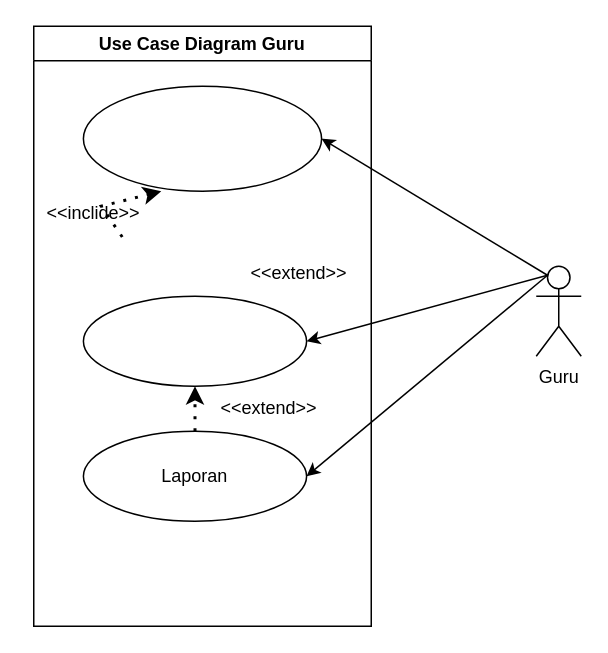
Some shapes in this 608 by 653 pixel diagram are drawn without their labels. Here are the shapes that lost their labels. From the top down, the centre of each, then its label:
At [202,138]: "LOGIN".
At [194,340]: "Melihat Hasil Penilaian".
